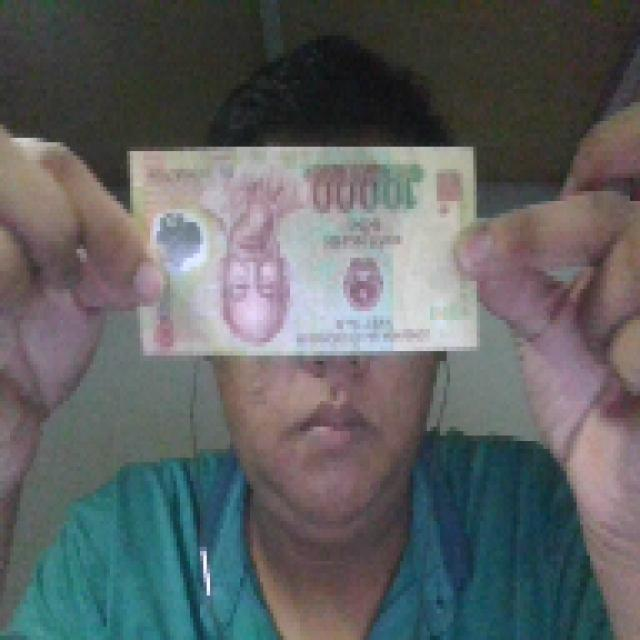10 000 VND: (124, 138, 484, 360)
